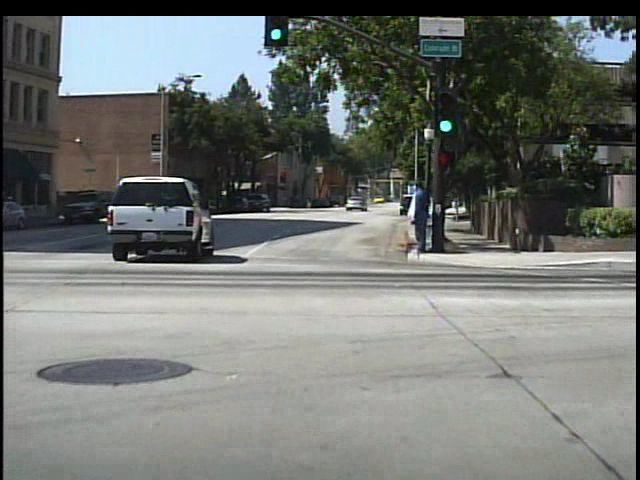person: (412, 181, 434, 257), (406, 186, 428, 258), (302, 194, 315, 210)
